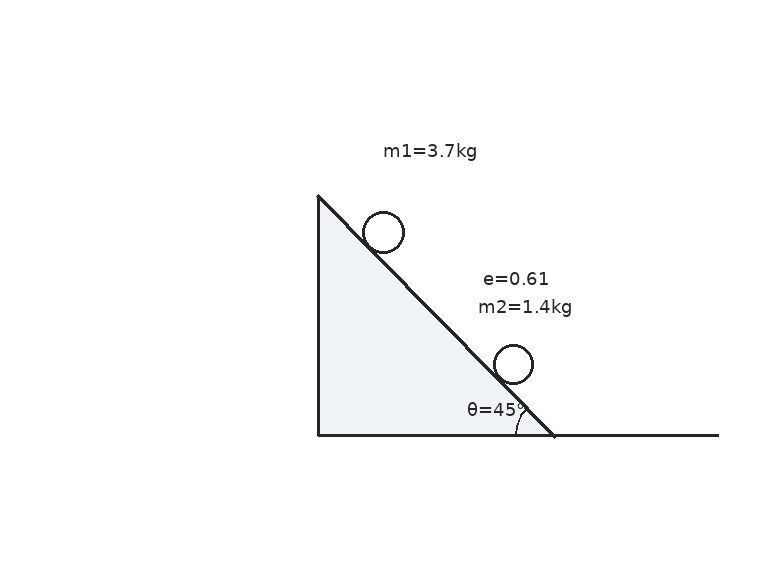ball: (360, 209, 406, 255), (491, 342, 535, 386)
ramp: (316, 195, 558, 437)
